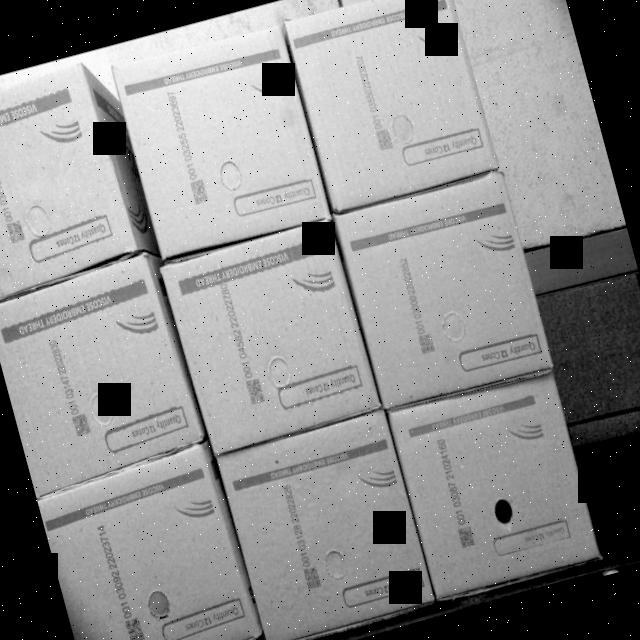box: (158, 222, 380, 458), (108, 22, 331, 256), (218, 408, 441, 640), (332, 171, 552, 405), (0, 248, 204, 494), (386, 374, 600, 601), (284, 0, 498, 209), (34, 444, 261, 640), (0, 57, 143, 297)
